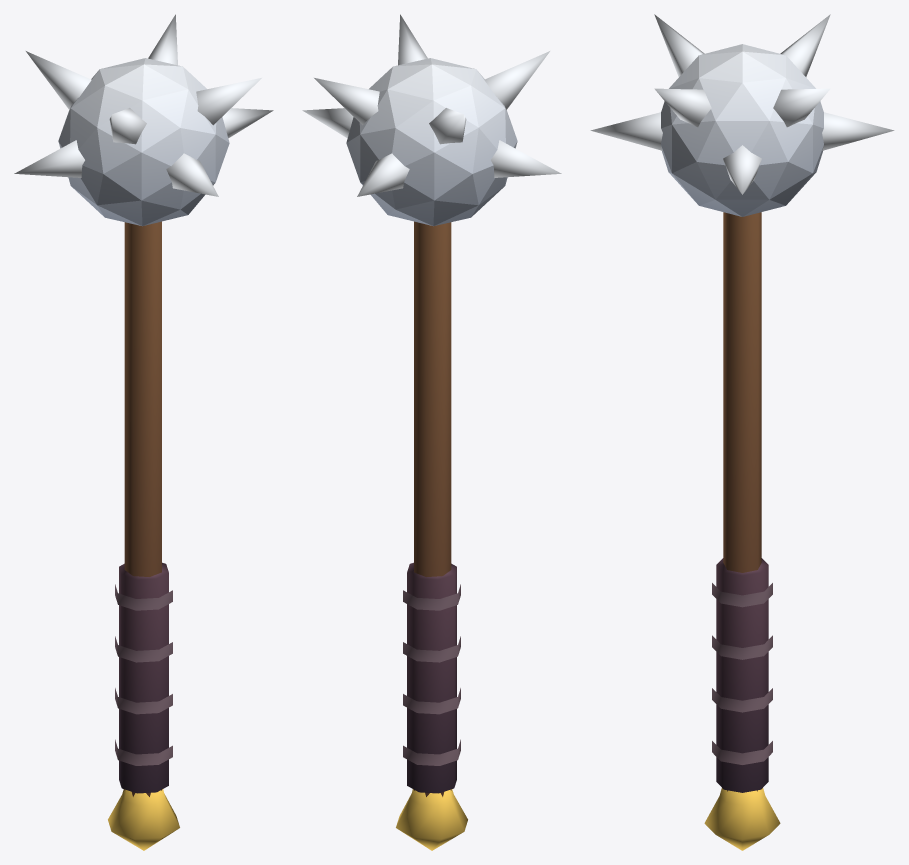
File: morningstar.glb
3 views of the same model, side by side, from view 1: azimuth 30°, elevation 25°; view 2: azimuth 150°, elevation 25°; view 3: azimuth 270°, elevation 25° (orthographic).
Visible parts, largest first — view 1: morningstar; view 2: morningstar; view 3: morningstar.
Boxes of the visible parts, <box> form: morningstar: <box>14,14,273,850</box>; morningstar: <box>302,14,561,850</box>; morningstar: <box>590,14,894,850</box>.
Bounding box in the file's own units: 0.28 × 0.8103 × 0.28.
